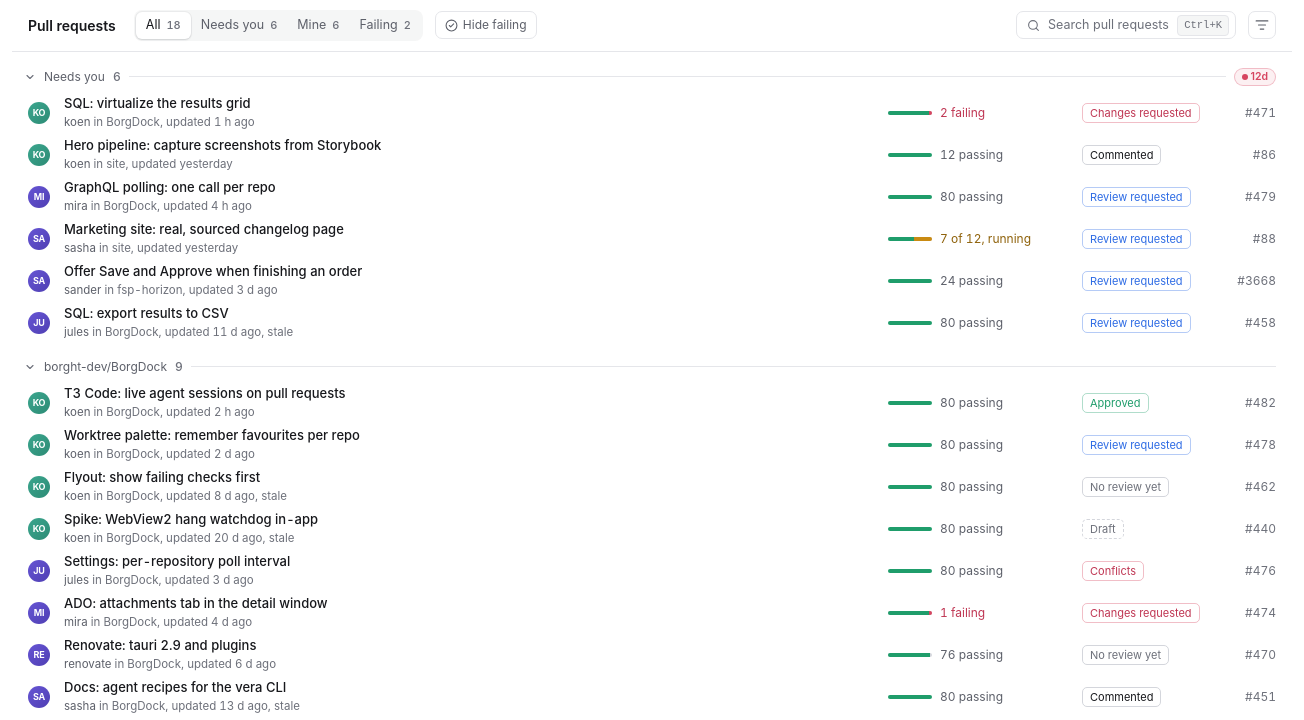
Test: PrList › FLIPs the rows on a filter change, fading the rows that leave
The width and height of the screenshot is (1304, 720).
Click the button "Failing 2". click: (385, 25)
box: x1=350 y1=12 x2=421 y2=39
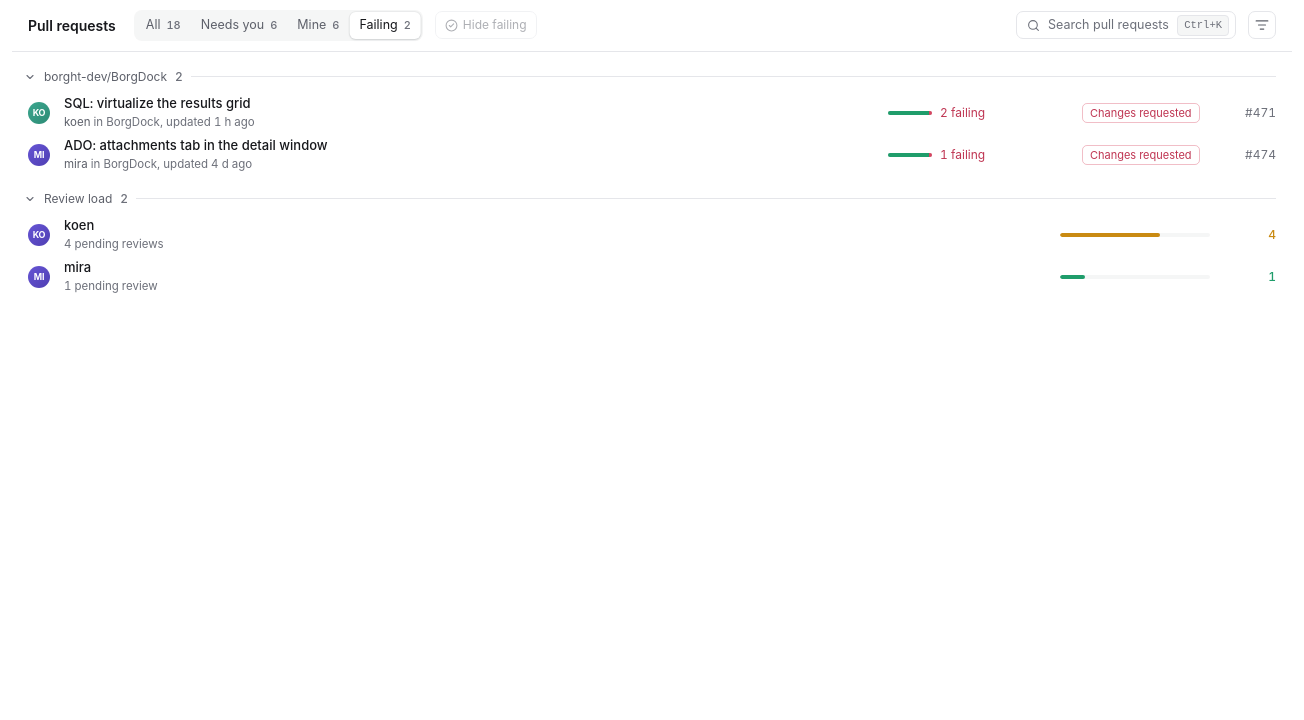
Expected: the text "Needs you" is not shown
Expected: the number of buttons with class "bd-wb-row" is 2, x1=12 y1=92 x2=1292 y2=134; x1=12 y1=134 x2=1292 y2=176
